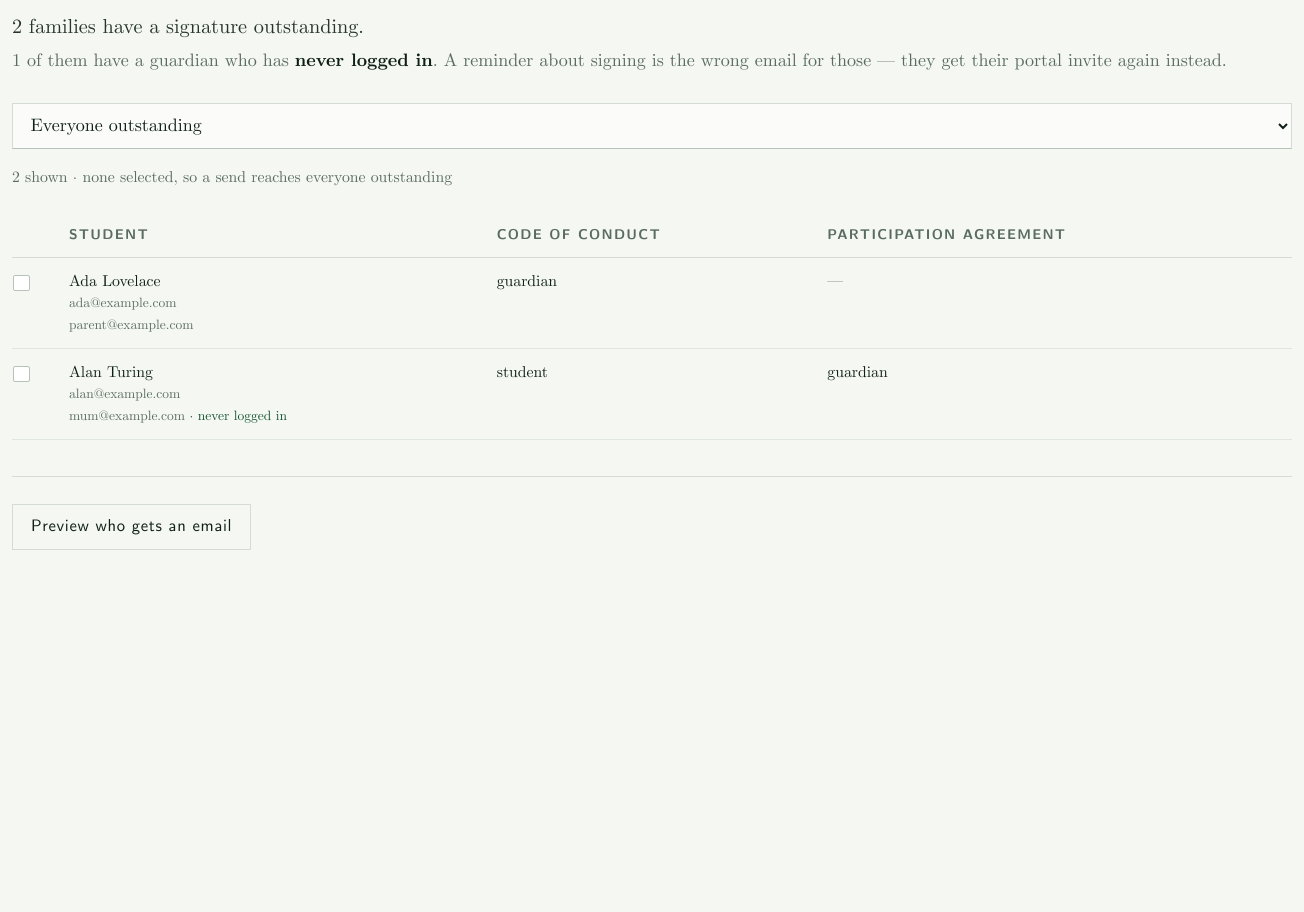
sending reminders › sends to everyone outstanding when nothing is selected
Expected: the text "Ada Lovelace" is shown, [69,271,161,292]
Click the button "Preview who gets an email" at [132, 527], box [12,504,251,550]
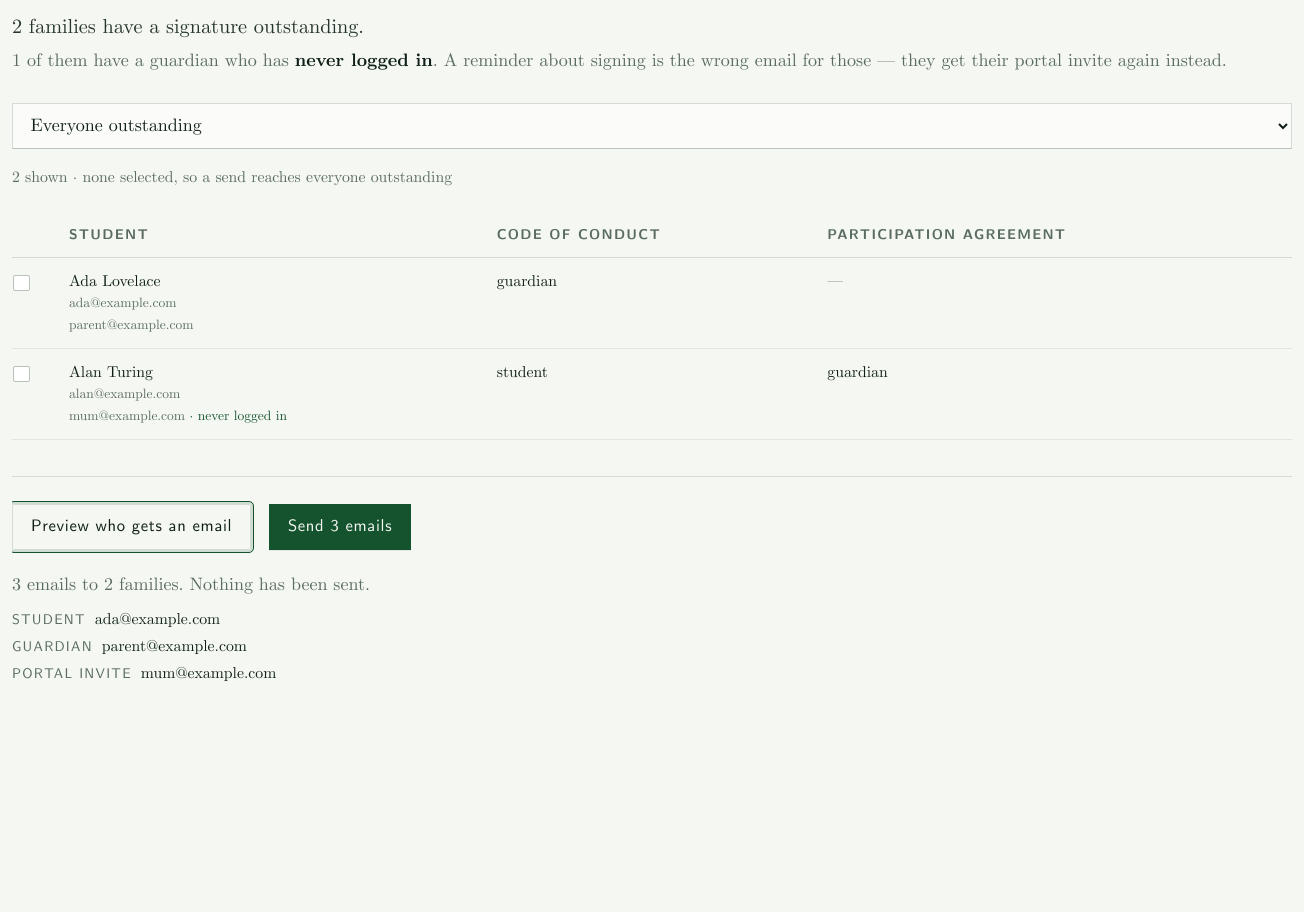
Expected: the text "mum@example.com" is shown, [141,663,276,684]
Expected: the text "ada@example.com" below "to" is shown, [95,609,220,630]
Expected: the text "portal invite" is shown, [12,665,132,683]
